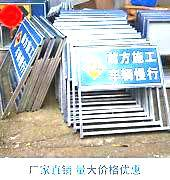sign: (77, 46, 163, 86), (9, 29, 36, 73)
